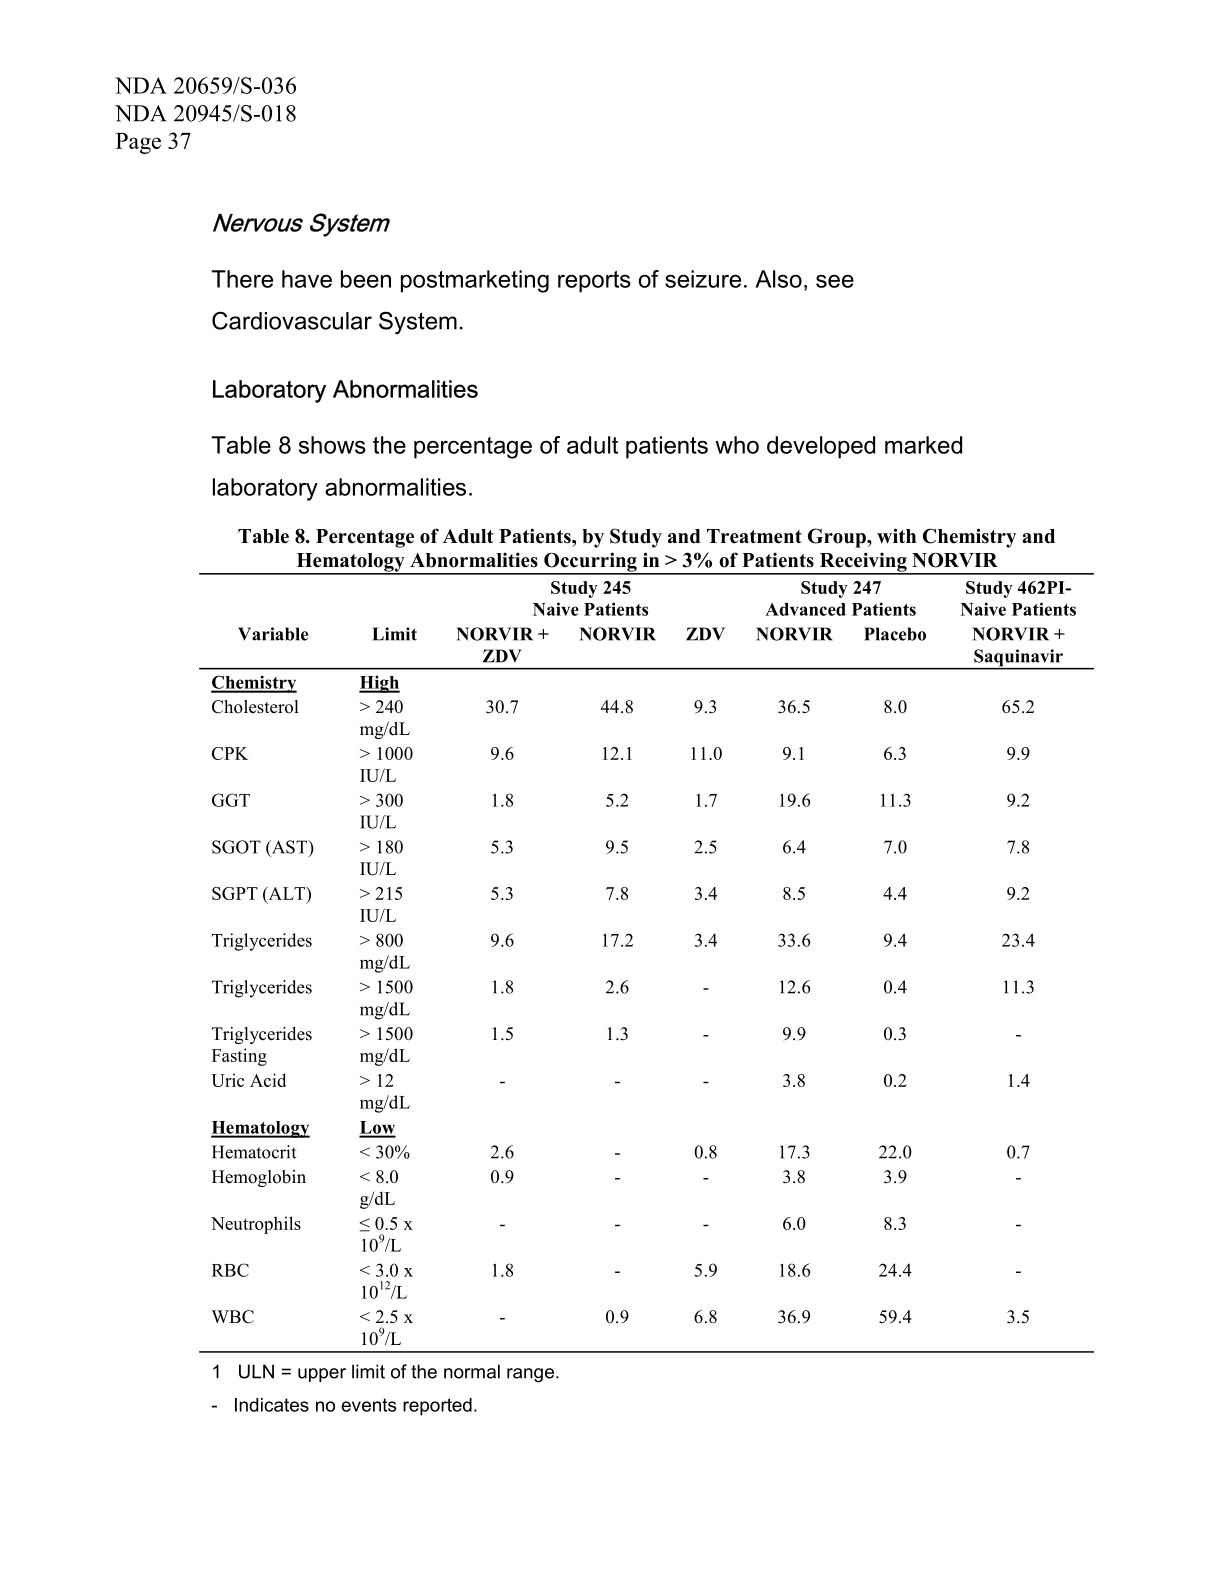partial_lined_merged_cells: (201, 571, 1098, 1356)
